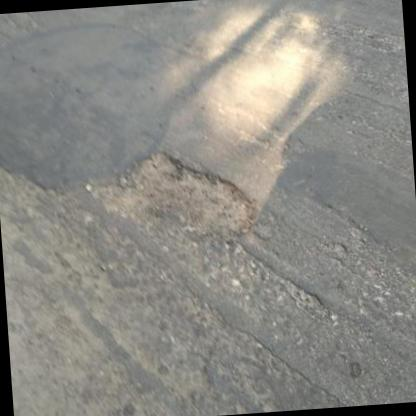pothole: (84, 143, 255, 251)
